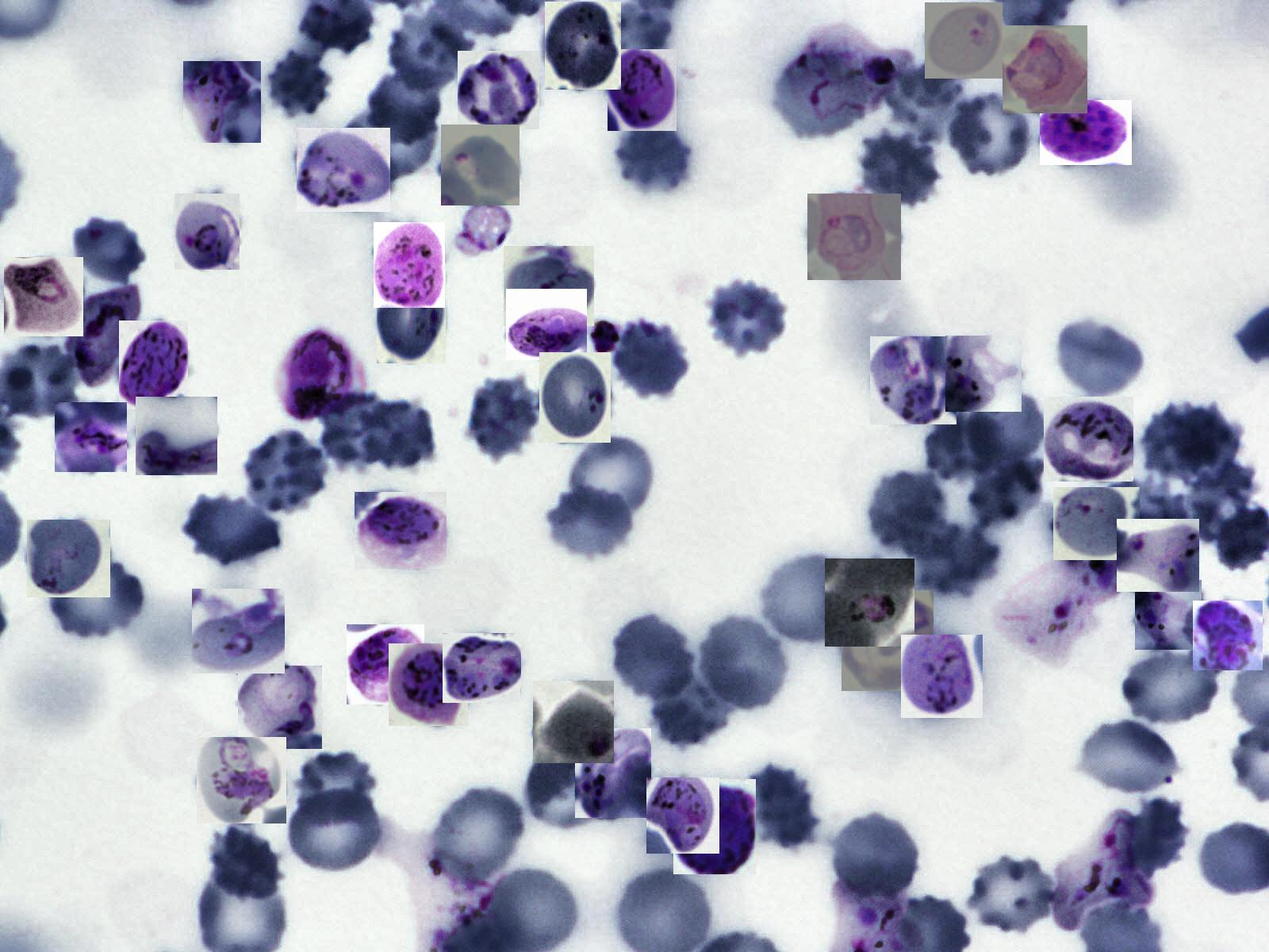Infected: (999, 548, 1125, 657), (1052, 811, 1150, 930), (787, 27, 911, 119), (276, 324, 371, 428), (842, 590, 934, 691), (807, 194, 901, 280), (192, 589, 285, 674), (673, 779, 756, 874), (825, 559, 914, 647), (297, 128, 390, 212), (870, 336, 957, 424), (197, 738, 286, 823), (1044, 397, 1133, 482), (1003, 25, 1087, 113), (68, 289, 141, 389), (504, 246, 594, 326), (355, 492, 447, 569), (238, 666, 322, 749), (377, 263, 446, 363), (575, 728, 651, 818), (901, 635, 983, 718), (545, 2, 621, 90), (533, 681, 614, 763), (389, 643, 468, 726), (539, 352, 611, 443), (183, 61, 261, 143), (27, 520, 110, 597), (1053, 487, 1140, 560), (136, 397, 217, 475), (458, 51, 539, 129), (4, 257, 83, 336), (441, 125, 519, 205), (347, 624, 424, 704), (374, 222, 445, 308), (119, 321, 188, 409), (925, 2, 1003, 79), (1117, 520, 1199, 593), (1040, 100, 1132, 165), (945, 336, 1022, 412), (506, 289, 587, 360), (608, 49, 677, 131), (646, 777, 719, 854), (443, 633, 521, 703), (55, 402, 127, 472), (174, 194, 240, 270), (1193, 601, 1263, 670), (1135, 581, 1202, 651)
Uninfected: (758, 551, 869, 647), (429, 788, 523, 881), (45, 553, 143, 638), (699, 616, 788, 709), (1141, 404, 1240, 486), (524, 742, 613, 828), (569, 436, 654, 526), (290, 786, 381, 870), (864, 469, 951, 555), (612, 616, 697, 702), (833, 815, 918, 898), (342, 106, 438, 179), (185, 494, 282, 566), (968, 857, 1061, 931), (611, 315, 690, 401), (389, 11, 475, 90), (1080, 724, 1178, 793), (1125, 651, 1218, 723), (744, 762, 817, 853), (463, 377, 541, 462), (364, 67, 450, 144), (858, 129, 940, 209), (968, 388, 1049, 468), (1101, 478, 1189, 551), (1056, 321, 1144, 393), (950, 94, 1028, 174), (316, 394, 397, 471), (546, 486, 631, 559), (246, 433, 324, 512), (615, 116, 690, 195), (918, 522, 999, 595), (707, 280, 785, 355), (297, 754, 377, 827), (888, 64, 965, 139), (926, 407, 1003, 480), (1189, 462, 1257, 543), (970, 455, 1047, 526), (650, 679, 730, 747), (71, 216, 148, 285), (210, 827, 280, 900), (361, 402, 436, 468), (1132, 797, 1190, 877), (268, 44, 329, 118)
